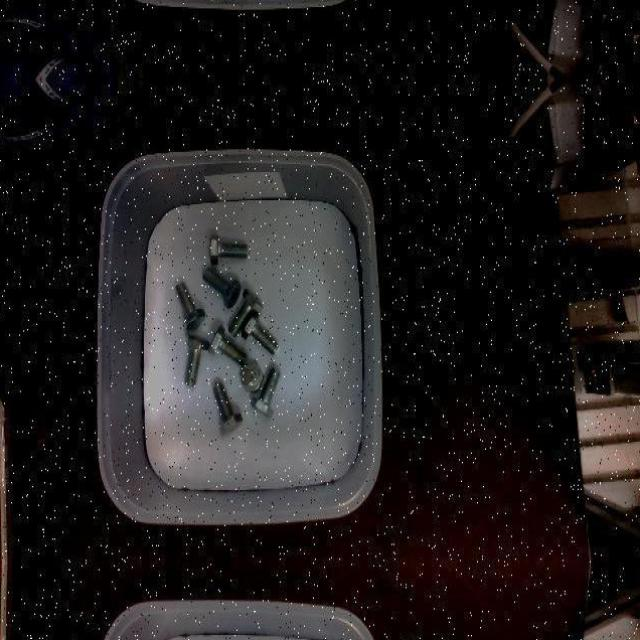screw: (228, 286, 264, 336), (202, 266, 242, 308), (208, 324, 248, 366), (214, 382, 244, 435), (242, 310, 278, 354), (174, 282, 205, 332), (250, 366, 280, 417), (186, 334, 210, 387), (210, 234, 248, 264), (240, 362, 264, 393)
